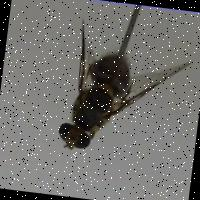Oriental-fruit-fly: (54, 17, 192, 164)
